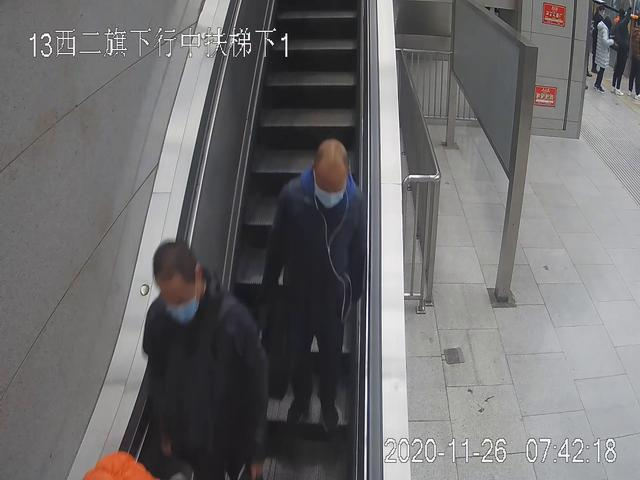person: (260, 137, 364, 434), (142, 240, 269, 480), (592, 15, 612, 92), (614, 7, 631, 91)
